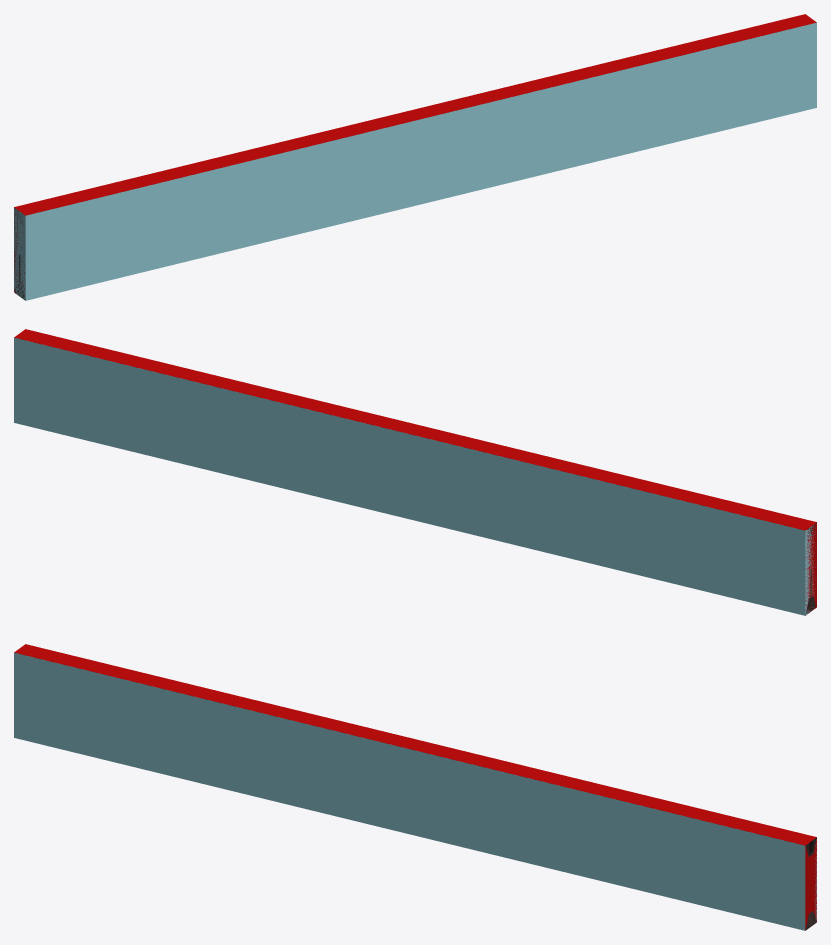
The model's file is SciFi_support_beam_ceiling.DAE.
3 views of the same model, one above another, from view 1: azimuth 30°, elevation 25°; view 2: azimuth 150°, elevation 25°; view 3: azimuth 330°, elevation 25° (orthographic).
Visible parts, largest first — view 1: bounds, colbox-01; view 2: bounds, colbox-01; view 3: bounds, colbox-01.
Boxes of the visible parts, x1,y1,x2,y2 form: bounds: [14, 22, 816, 300]; colbox-01: [14, 14, 816, 298]; bounds: [14, 337, 815, 615]; colbox-01: [14, 329, 816, 615]; bounds: [14, 652, 816, 930]; colbox-01: [14, 644, 816, 930].
Size of the model in its own units: 700 by 17.78 by 72.1.
